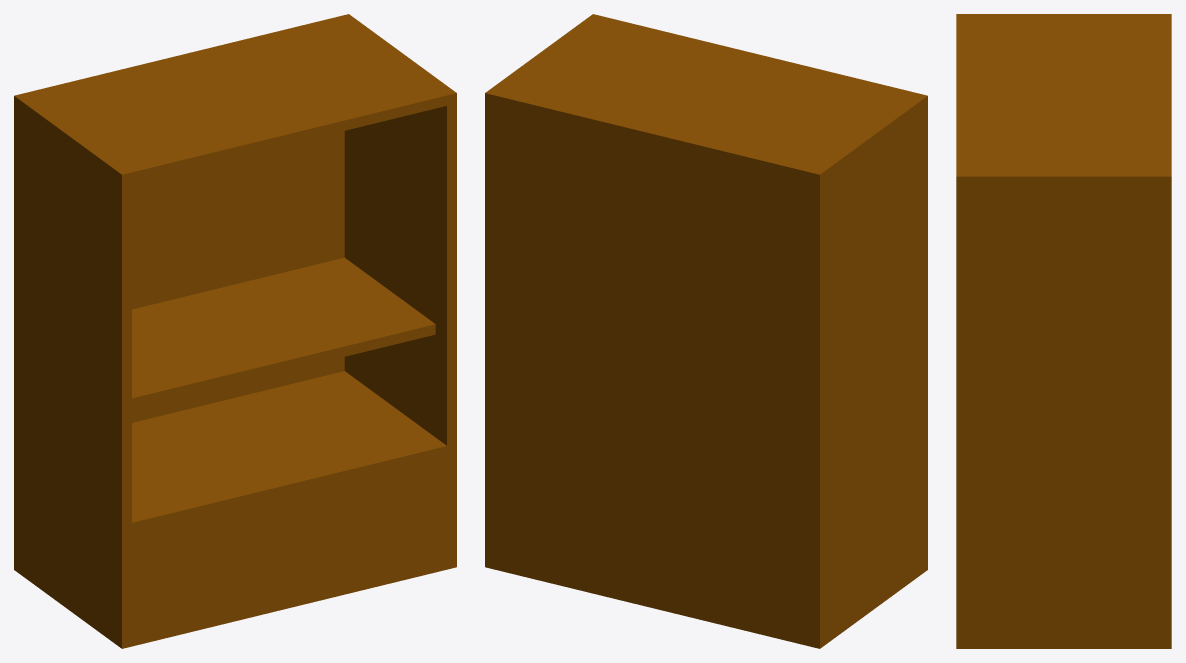
The model's file is Shelf.vox-1.obj.
3 views of the same model, side by side, from view 1: azimuth 30°, elevation 25°; view 2: azimuth 150°, elevation 25°; view 3: azimuth 270°, elevation 25° (orthographic).
Bounding box in the file's own units: 3.4 × 4.6 × 1.9.
1 material, 1 textured.
